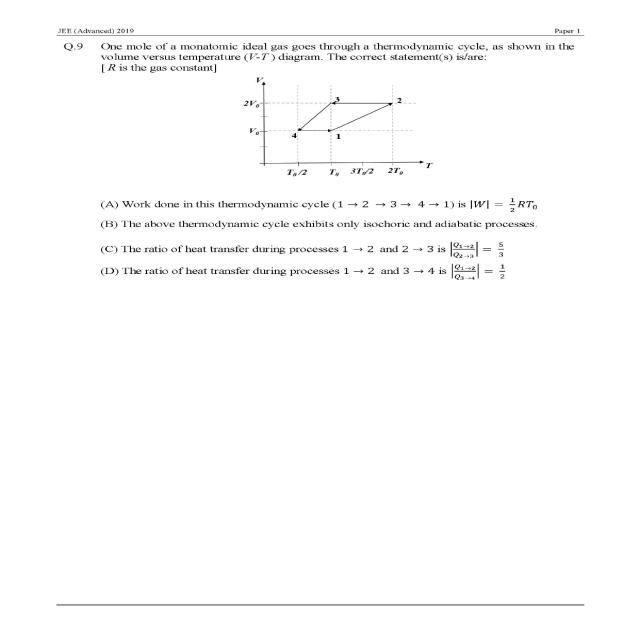Answer_Block: (49, 196, 619, 304)
Question_Answer_Block: (49, 40, 619, 305)
Question_Block: (49, 40, 619, 193)
Question_Paper_Area: (49, 40, 619, 417)
